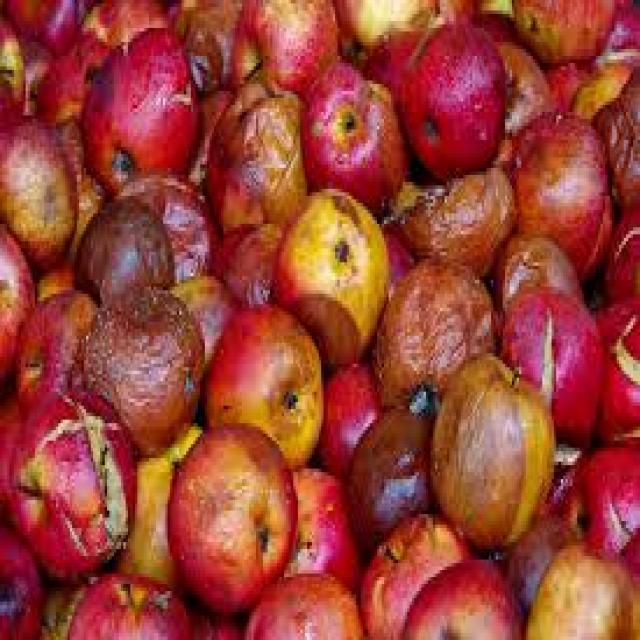organic waste: (0, 0, 638, 637), (428, 343, 554, 549), (2, 381, 130, 581), (165, 423, 293, 616), (77, 280, 202, 451), (75, 21, 200, 182), (270, 185, 389, 354), (370, 252, 496, 409), (200, 300, 321, 462), (491, 280, 603, 451), (398, 10, 507, 172), (502, 116, 610, 276), (298, 56, 407, 210), (109, 420, 205, 588), (202, 80, 305, 228), (356, 504, 470, 636), (391, 161, 514, 269), (344, 392, 428, 549), (72, 192, 177, 315), (114, 168, 221, 283), (552, 437, 638, 570), (0, 108, 72, 266), (524, 538, 638, 636), (403, 549, 526, 637), (282, 455, 358, 584), (228, 0, 335, 87), (65, 570, 193, 637), (584, 297, 638, 448), (12, 286, 88, 392), (28, 32, 112, 122), (242, 570, 354, 637), (167, 0, 253, 87), (591, 66, 638, 224), (52, 108, 102, 255), (316, 353, 379, 465), (498, 511, 575, 602), (163, 270, 237, 360), (204, 220, 282, 304), (491, 238, 584, 308), (509, 0, 614, 59), (330, 0, 432, 52), (0, 518, 44, 636), (588, 199, 638, 301), (77, 0, 177, 49), (361, 24, 421, 102), (0, 203, 26, 374), (572, 59, 638, 126), (0, 0, 84, 52), (503, 39, 542, 122), (30, 248, 91, 298), (40, 577, 90, 637), (0, 391, 23, 517), (377, 210, 410, 287), (547, 56, 593, 108), (602, 0, 637, 66), (182, 598, 240, 637), (0, 10, 23, 104), (491, 126, 521, 168), (437, 0, 474, 17)
